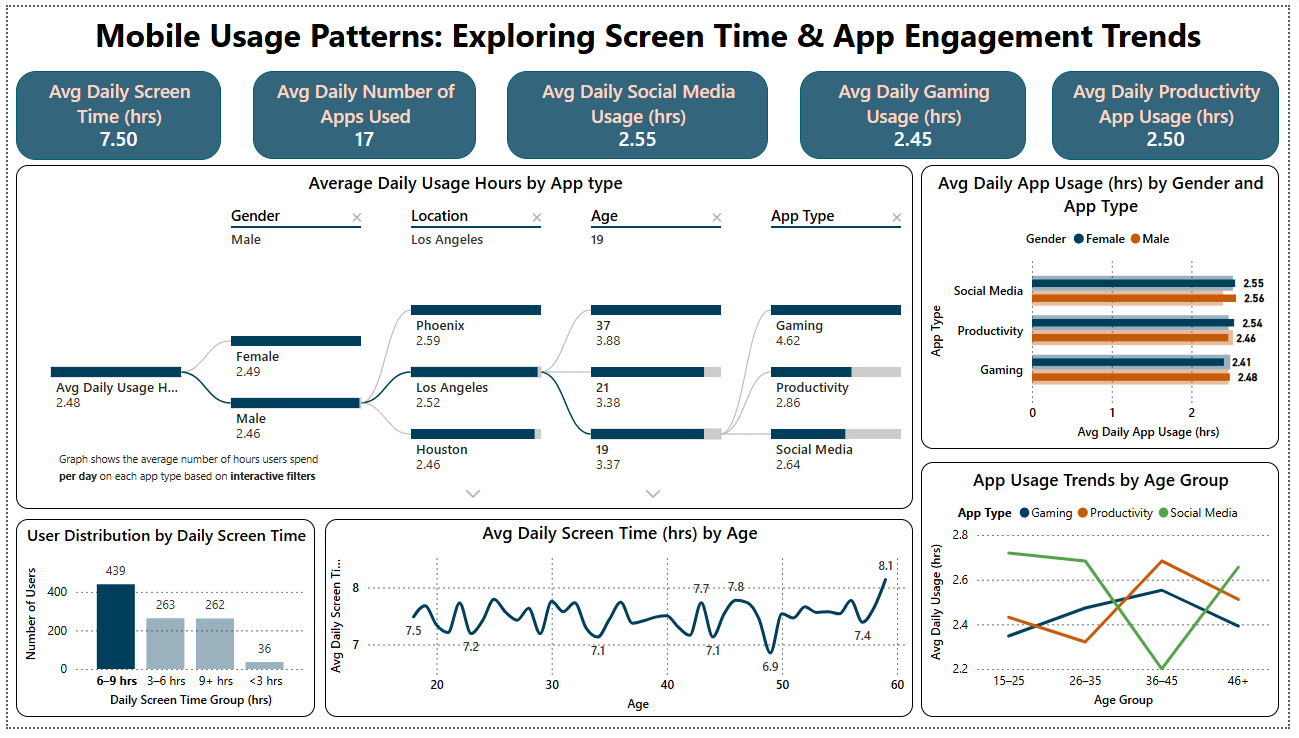

This screenshot's page, from the dashboard's own definition file:
{"tool":"powerbi","page":{"name":"Page 1","canvas":[1280,720],"ordinal":0},"visuals":[{"type":"textbox","box":[0,0,1280,75.8],"z":0},{"type":"decompositionTreeVisual","title":"Average Daily Usage Hours by App type","fields":{"ExplainBy":["mobile_usage_behavioral_analysis.Gender","mobile_usage_behavioral_analysis.Location","mobile_usage_behavioral_analysis.Age","App_Usage_By_Type.App_Usage_Type"],"Analyze":["App_Usage_By_Type.Avg Daily Usage Hours by App Type"]},"box":[8.1,157.6,897.3,343.9],"z":0,"group":"g1"},{"type":"card","title":"Avg Daily Screen Time (hrs)","fields":{"Values":["Avg(mobile_usage_behavioral_analysis.Daily_Screen_Time_Hours)"]},"box":[8.1,63.6,205.1,89],"z":1000},{"type":"card","title":"Avg Daily Number of Apps Used","fields":{"Values":["Avg(mobile_usage_behavioral_analysis.Number_of_Apps_Used)"]},"box":[245.4,63.6,223,88.7],"z":2000},{"type":"card","title":"Avg Daily Social Media Usage (hrs)","fields":{"Values":["Avg(mobile_usage_behavioral_analysis.Social_Media_Usage_Hours)"]},"box":[499,63.6,260.6,88.7],"z":3000},{"type":"card","title":"Avg Daily Productivity App Usage (hrs)","fields":{"Values":["Avg(mobile_usage_behavioral_analysis.Productivity_App_Usage_Hours)"]},"box":[1044.2,63.6,226.6,89],"z":4000},{"type":"card","title":"Avg Daily Gaming Usage (hrs)","fields":{"Values":["Avg(mobile_usage_behavioral_analysis.Gaming_App_Usage_Hours)"]},"box":[791.6,63.6,226.6,88.7],"z":5000},{"type":"lineChart","title":"Avg Daily Screen Time (hrs) by Age","fields":{"Y":["Avg(mobile_usage_behavioral_analysis.Daily_Screen_Time_Hours)"],"Category":["mobile_usage_behavioral_analysis.Age (bins)"]},"box":[317,512.2,588.4,197.9],"z":6000},{"type":"clusteredColumnChart","title":"User Distribution by Daily Screen Time","fields":{"Category":["mobile_usage_behavioral_analysis.ScreenTimeGroup"],"Y":["CountNonNull(mobile_usage_behavioral_analysis.User_ID)"]},"box":[8.1,512.2,299.1,197.9],"z":7000},{"type":"clusteredBarChart","title":"Avg Daily App Usage (hrs) by Gender and App Type","fields":{"Category":["App_Usage_By_Type.App Type"],"Y":["Avg(App_Usage_By_Type.Usage_Hours)"],"Series":["GenderLookup.Gender"]},"box":[913.4,157.6,357.3,284.8],"z":8000},{"type":"lineChart","title":"App Usage Trends by Age Group","fields":{"Y":["Avg(App_Usage_By_Type.Usage_Hours)"],"Series":["App_Usage_By_Type.App Type"],"Category":["App_Usage_By_Type.Age_Group"]},"box":[913.4,454.9,357.3,255.2],"z":9000},{"type":"textbox","box":[45.9,436.5,281.6,61.4],"z":11000,"group":"g1"},{"type":"group","id":"g1","title":"Group 1","box":[8.1,157.6,897.3,343.9],"z":11001}]}

Visuals, with their boxes in screenshot pixels (x1, y1, x2, y2), scaled from the page's 1280x720 canvas onto the 1299x738 screenshot:
textbox: <box>0,0,1298,78</box>
"Average Daily Usage Hours by App type" decompositionTreeVisual: <box>8,162,919,514</box>
"Avg Daily Screen Time (hrs)" card: <box>8,65,216,156</box>
"Avg Daily Number of Apps Used" card: <box>249,65,475,156</box>
"Avg Daily Social Media Usage (hrs)" card: <box>506,65,771,156</box>
"Avg Daily Productivity App Usage (hrs)" card: <box>1060,65,1290,156</box>
"Avg Daily Gaming Usage (hrs)" card: <box>803,65,1033,156</box>
"Avg Daily Screen Time (hrs) by Age" lineChart: <box>322,525,919,728</box>
"User Distribution by Daily Screen Time" clusteredColumnChart: <box>8,525,312,728</box>
"Avg Daily App Usage (hrs) by Gender and App Type" clusteredBarChart: <box>927,162,1290,453</box>
"App Usage Trends by Age Group" lineChart: <box>927,466,1290,728</box>
textbox: <box>47,447,332,510</box>
"Group 1" group: <box>8,162,919,514</box>
